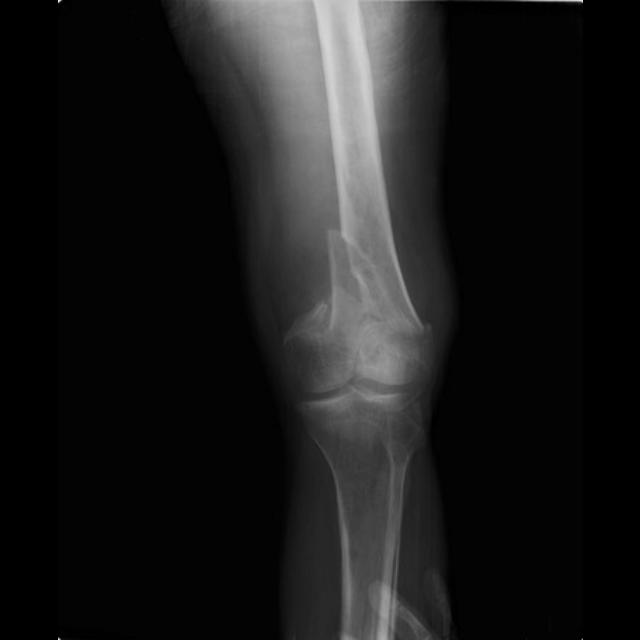Fracture: (320, 225, 436, 339)
